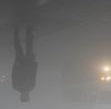person: (11, 26, 38, 103)
